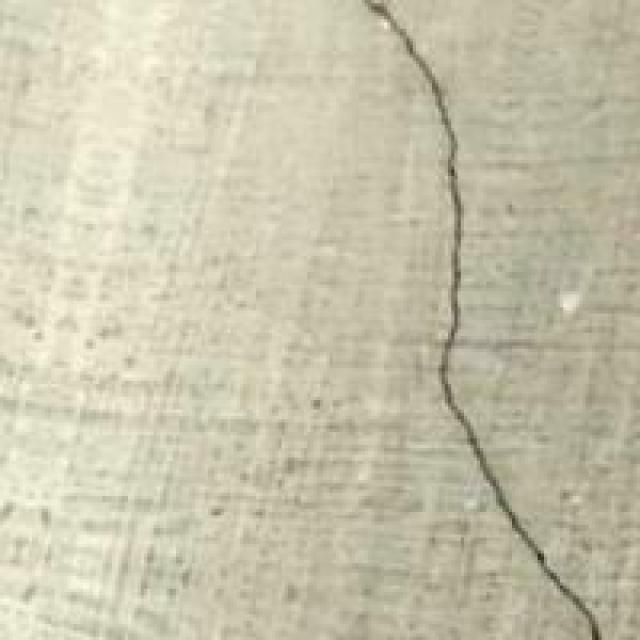crack: (354, 0, 628, 640)
